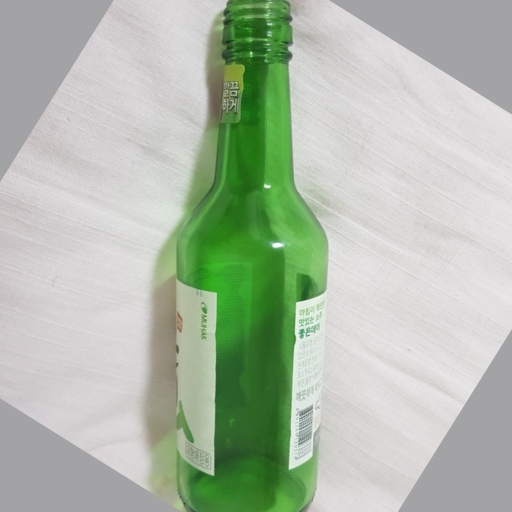Glass_0: (162, 1, 329, 512)
